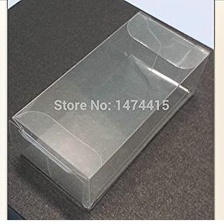plastic_box: (6, 5, 213, 214)
